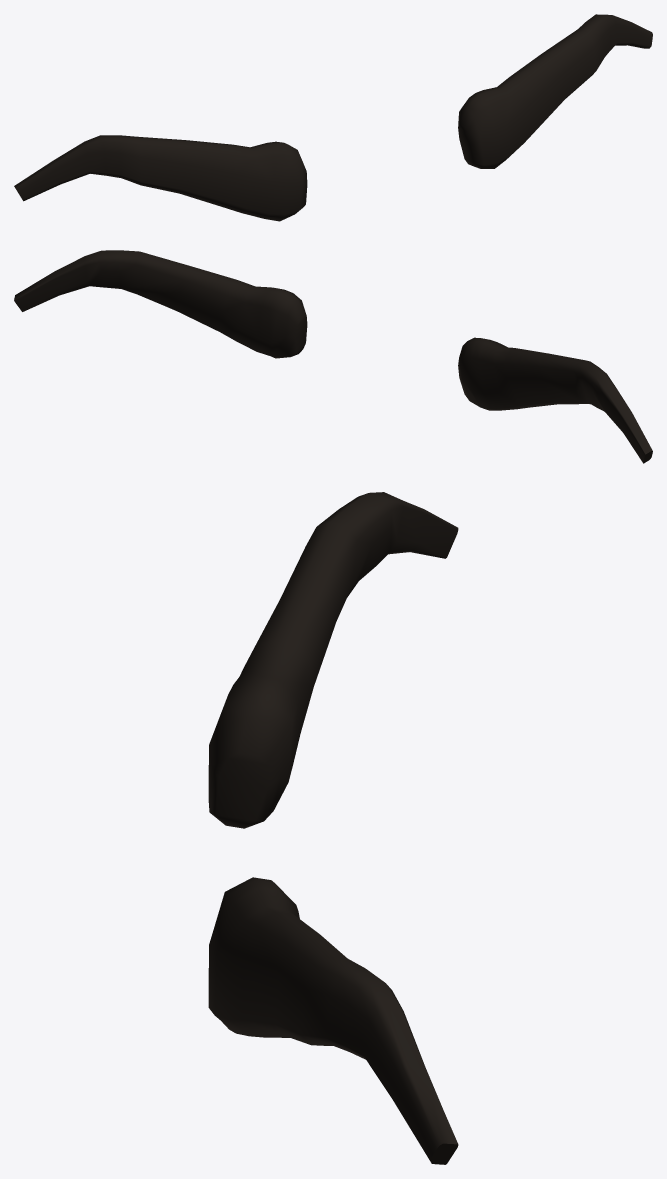
File: Eyebrows_13_01.fbx
3 views of the same model, one above another, from view 1: azimuth 30°, elevation 25°; view 2: azimuth 150°, elevation 25°; view 3: azimuth 270°, elevation 25° (orthographic). The views are drawn at different scales.
Parts seen in each view (by area): view 1: Eyebrows_13_01; view 2: Eyebrows_13_01; view 3: Eyebrows_13_01.
Part boxes in pixels (x1,y1,x2,y2): Eyebrows_13_01: [14, 14, 652, 221]; Eyebrows_13_01: [14, 250, 652, 463]; Eyebrows_13_01: [208, 492, 458, 1164].
Bounding box in the file's own units: 19.7 × 2.81 × 3.35.
